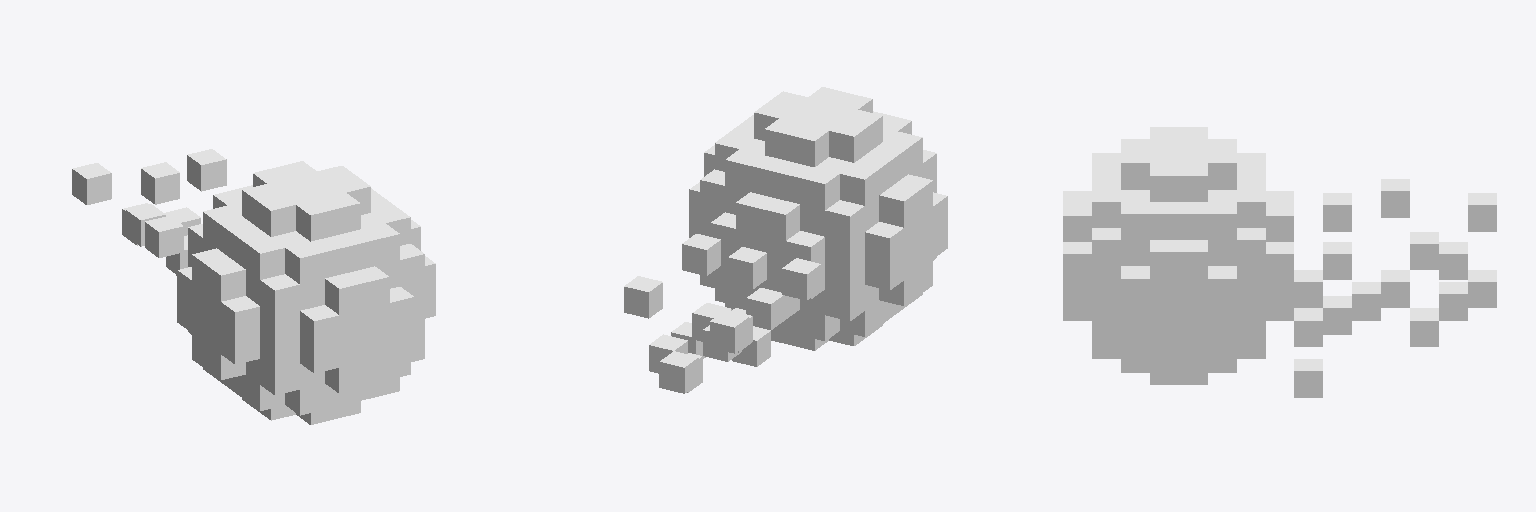
File: BolaFuego-4.obj
3 renders of one model, left to right at view 1: azimuth 30°, elevation 25°; view 2: azimuth 150°, elevation 25°; view 3: azimuth 270°, elevation 25°, orthographic.
Parts seen in each view (by area): view 1: object 1; view 2: object 1; view 3: object 1.
Part boxes in pixels (bbox=[...]): object 1: bbox=[72, 149, 435, 424]; object 1: bbox=[624, 87, 947, 393]; object 1: bbox=[1063, 127, 1496, 397].
Size of the model in its own units: 0.8 by 0.8 by 1.5.